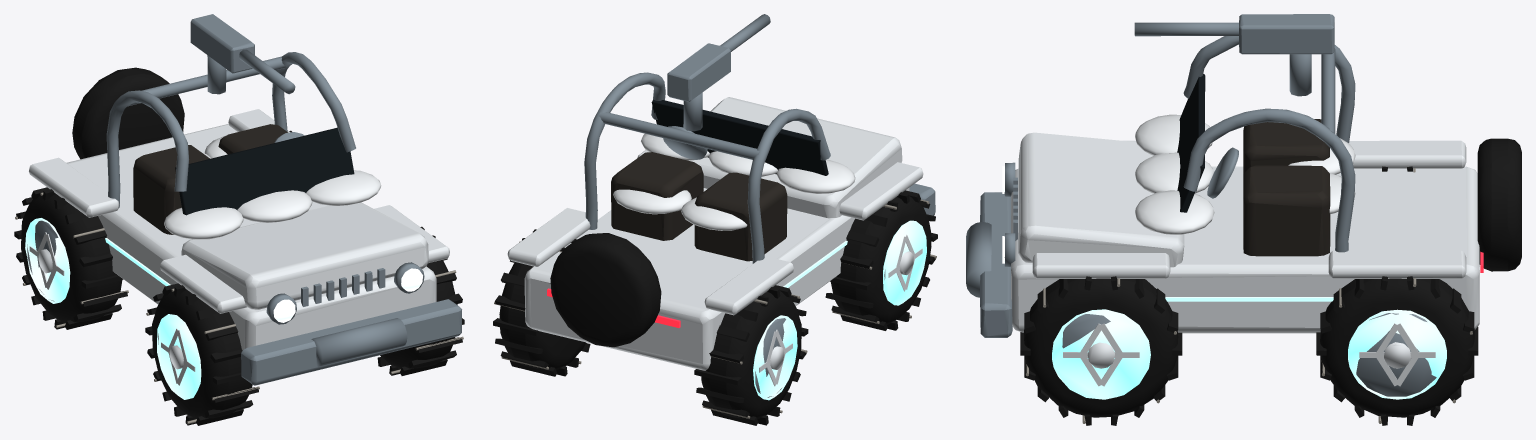
Rendered from jeep_arktis.glb.
3 renders of one model, left to right at view 1: azimuth 30°, elevation 25°; view 2: azimuth 150°, elevation 25°; view 3: azimuth 270°, elevation 25°, orthographic. The views are drawn at different scales.
Parts seen in each view (by area): view 1: krop_net; view 2: krop_net; view 3: krop_net.
Part boxes in pixels (x1,y1,x2,y2): krop_net: (14,14,464,425); krop_net: (493,14,937,425); krop_net: (966,14,1521,425).
Size of the model in its own units: 1.04 by 1.15 by 1.71.
